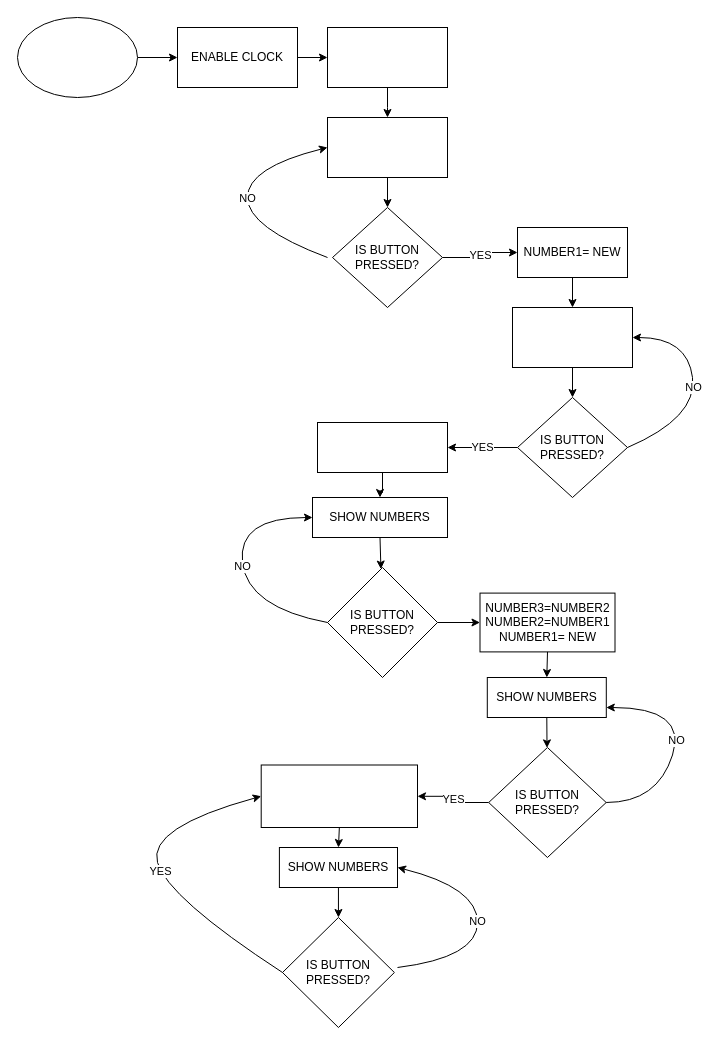
The diagram is 720 pixels wide and 1045 high, and some of its shapes have lost their labels. Here are the shapes that lost their labels. From the top down, the centre of each, then its label:
the point at 77,57: START
the point at 387,57: SETUP KEYPAD AND SSD
the point at 387,147: DISPLAY IDLE SCREEN
the point at 572,337: SHOW NUMBER
the point at 382,447: NUMBER2=NUMBER1 NUMBER1= NEW
the point at 339,796: NUMBER4=NUMBER3 NUMBER3=NUMBER2 NUMBER2=NUMBER1 NUMBER1=NEW
